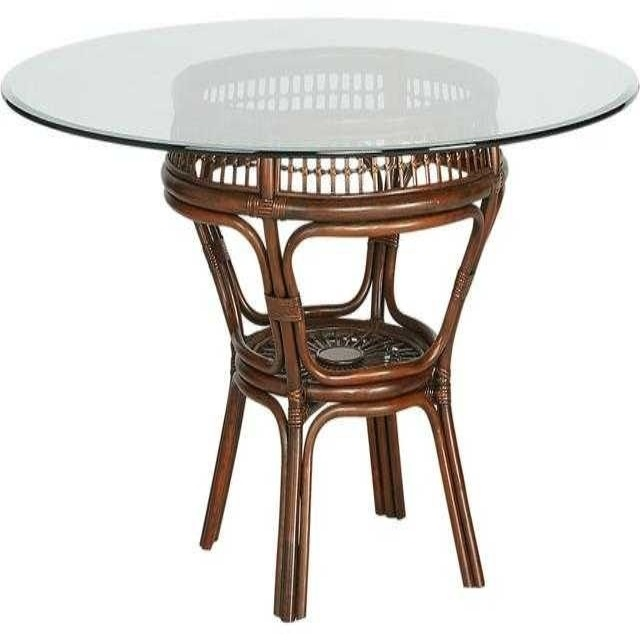obstacle: (0, 94, 639, 636), (0, 1, 639, 79)
